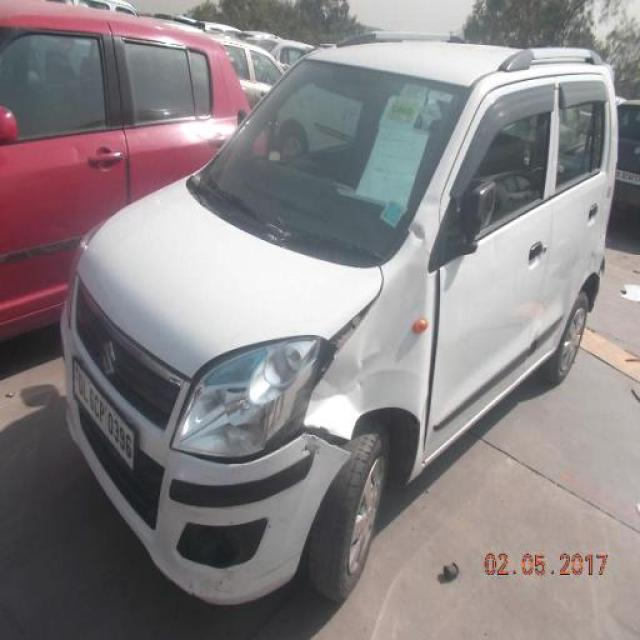Car-Damage: (227, 292, 373, 470), (423, 269, 444, 446), (335, 353, 406, 404), (306, 416, 349, 465), (408, 221, 428, 252)
